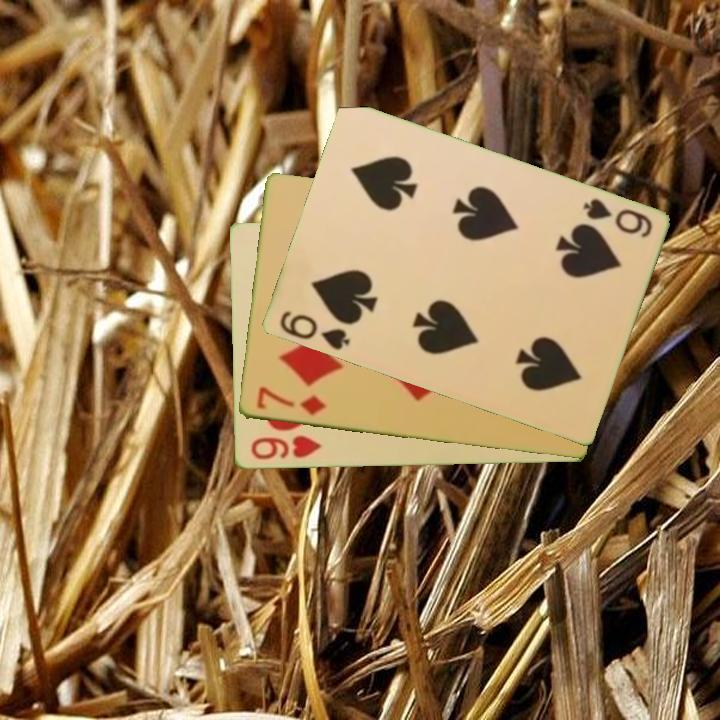6s: (578, 195, 655, 242), (275, 307, 352, 353)
7d: (253, 384, 329, 418)
9h: (247, 432, 323, 463)
